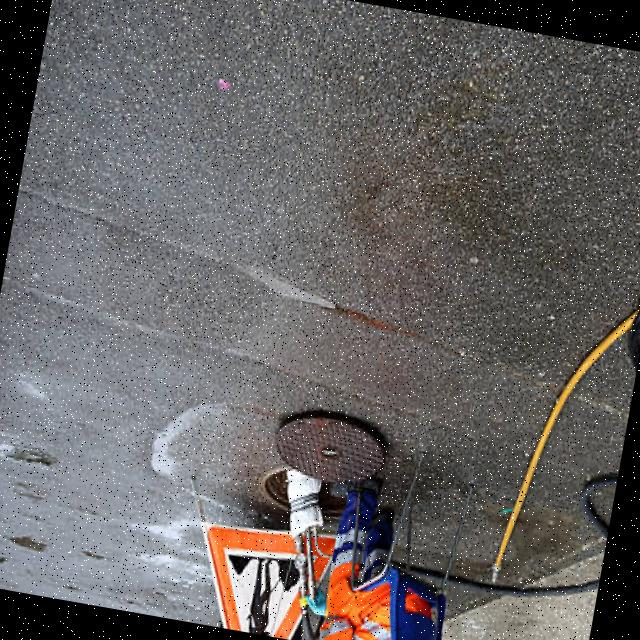road_work: (190, 518, 321, 640)
